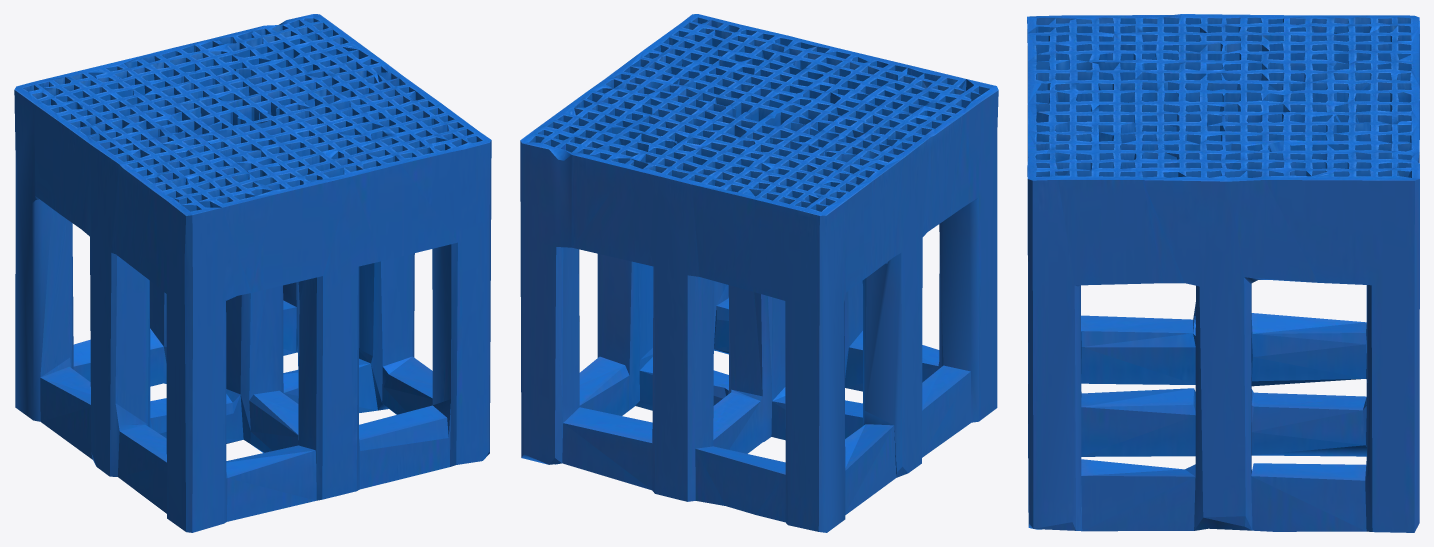
3 renders of one model, left to right at view 1: azimuth 30°, elevation 25°; view 2: azimuth 150°, elevation 25°; view 3: azimuth 270°, elevation 25°, orthographic. The views are drawn at different scales.
Visible parts, largest first — view 1: plastic-pallet; view 2: plastic-pallet; view 3: plastic-pallet.
Boxes of the visible parts, x1,y1,x2,y2 form: plastic-pallet: [14, 14, 491, 532]; plastic-pallet: [520, 14, 998, 532]; plastic-pallet: [1027, 14, 1419, 532].
Size of the model in its own units: 1 by 1 by 1.
Materials: 1 (1 with a texture image).
